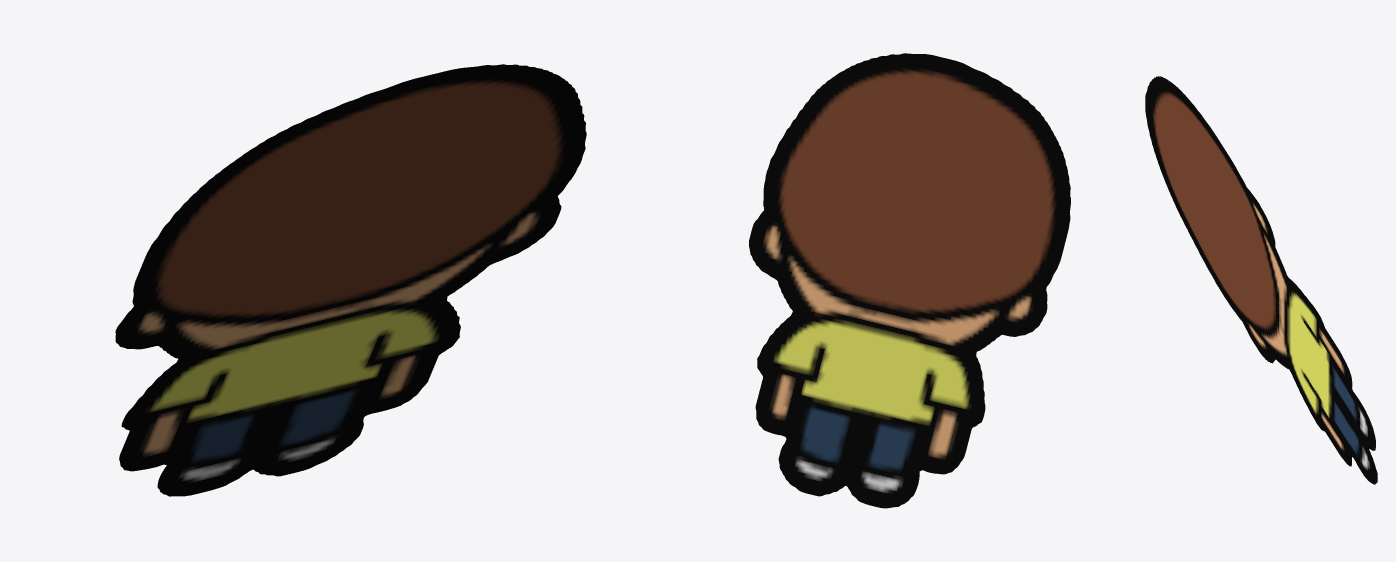
The model's file is Morty.gltf.
The picture shows the model from 3 angles, left to right: view 1: azimuth 30°, elevation 25°; view 2: azimuth 150°, elevation 25°; view 3: azimuth 270°, elevation 25°; orthographic projection. The views are drawn at different scales.
Visible parts, largest first — view 1: Plane; view 2: Plane; view 3: Plane.
Part boxes in pixels (x1,y1,x2,y2): Plane: (115, 64, 586, 496); Plane: (749, 53, 1070, 508); Plane: (1145, 76, 1377, 484).
Bounding box in the file's own units: 0.8786 × 0.9943 × 0.5741.
1 material, 1 textured.
